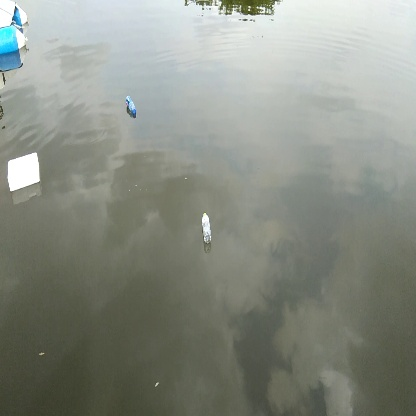bottle: (196, 211, 219, 247), (123, 93, 142, 120)
plastic-garbage: (3, 152, 48, 193)
